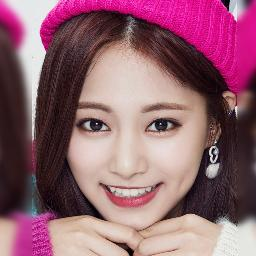face: (70, 51, 202, 223)
